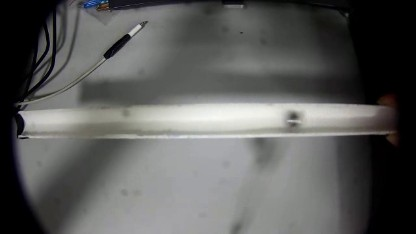gangzhu: (284, 108, 303, 129)
